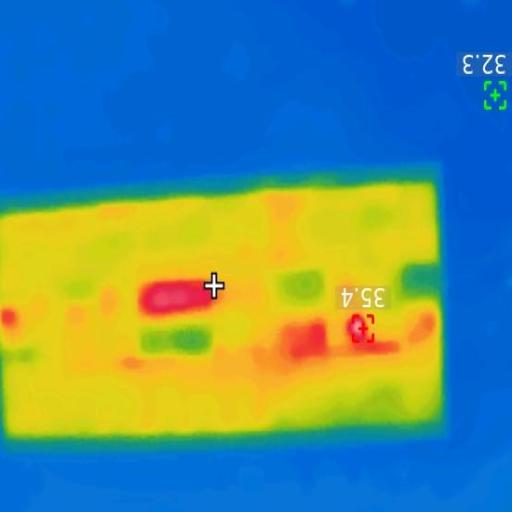hotspot: (138, 279, 225, 319), (343, 312, 376, 351), (286, 324, 326, 355)
